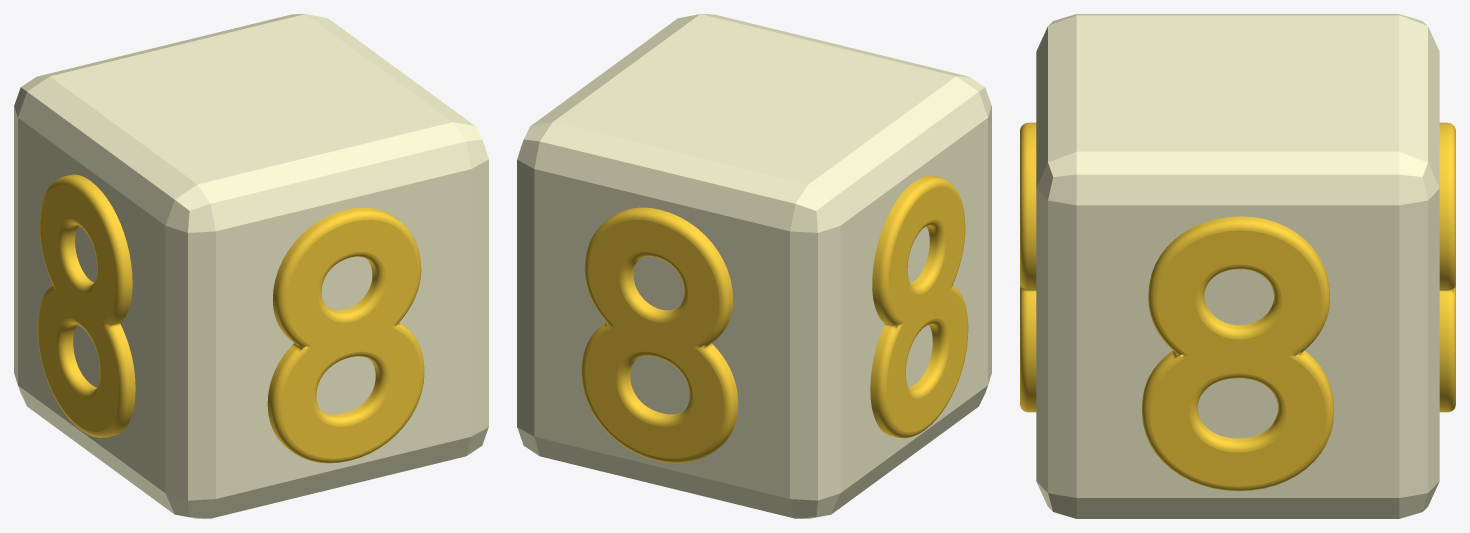
The picture shows the model from 3 angles, left to right: view 1: azimuth 30°, elevation 25°; view 2: azimuth 150°, elevation 25°; view 3: azimuth 270°, elevation 25°; orthographic projection. The views are drawn at different scales.
Parts seen in each view (by area): view 1: 8; view 2: 8; view 3: 8.
Boxes of the visible parts, x1=… form: 8: x1=14, y1=14, x2=488, y2=518; 8: x1=517, y1=14, x2=991, y2=518; 8: x1=1020, y1=14, x2=1455, y2=518.
Bounding box in the file's own units: 216 × 200 × 216.
